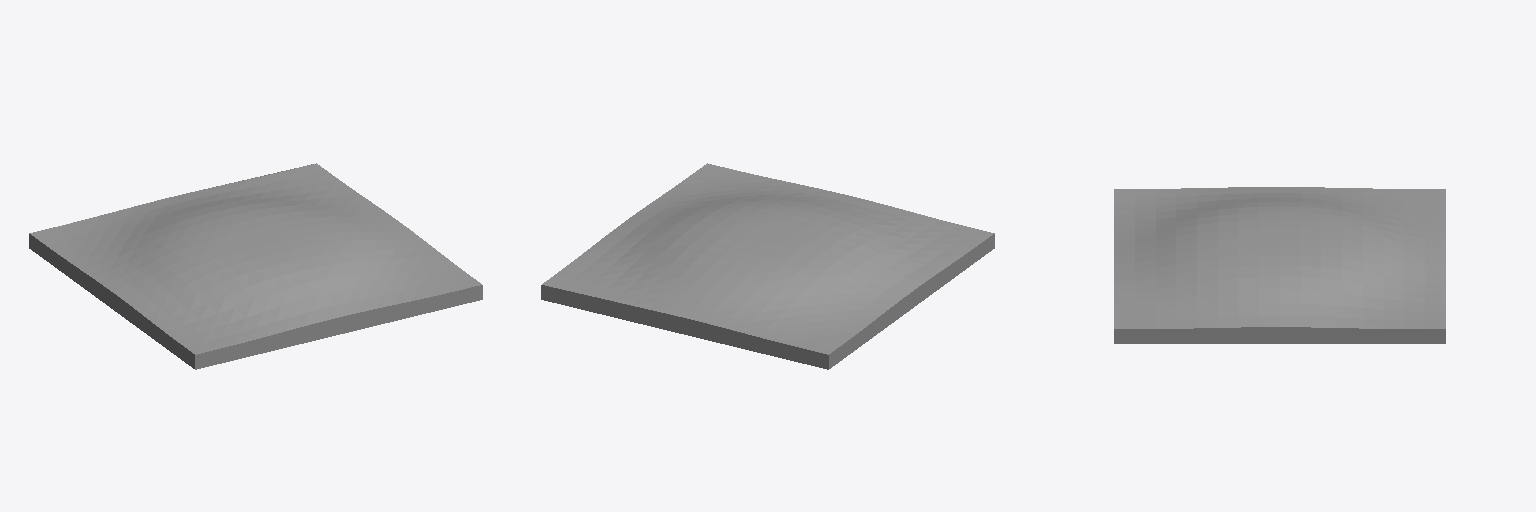
The model's file is platforms_convex.obj.
3 views of the same model, side by side, from view 1: azimuth 30°, elevation 25°; view 2: azimuth 150°, elevation 25°; view 3: azimuth 270°, elevation 25° (orthographic).
Parts seen in each view (by area): view 1: convex_Cube; view 2: convex_Cube; view 3: convex_Cube.
Part boxes in pixels (left/top/right/bottom): convex_Cube: left=29, top=163, right=482, bottom=369; convex_Cube: left=541, top=163, right=994, bottom=369; convex_Cube: left=1114, top=187, right=1445, bottom=343.
Size of the model in its own units: 40 by 4.82 by 40.